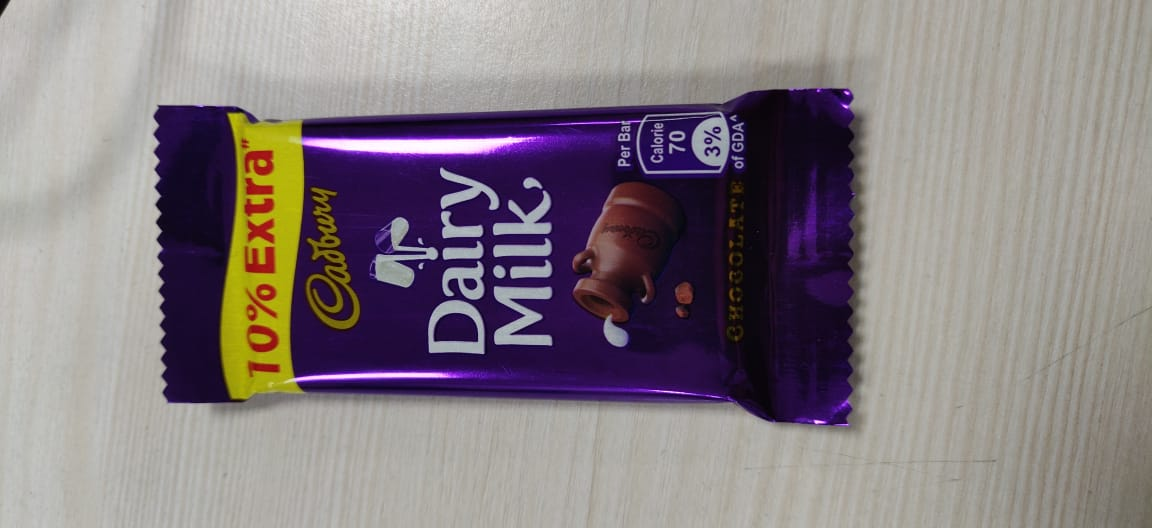dairy milk: (146, 89, 886, 443)
